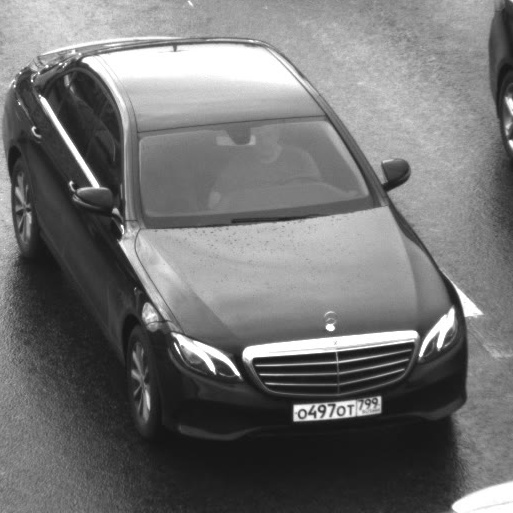plate: (279, 384, 390, 429)
